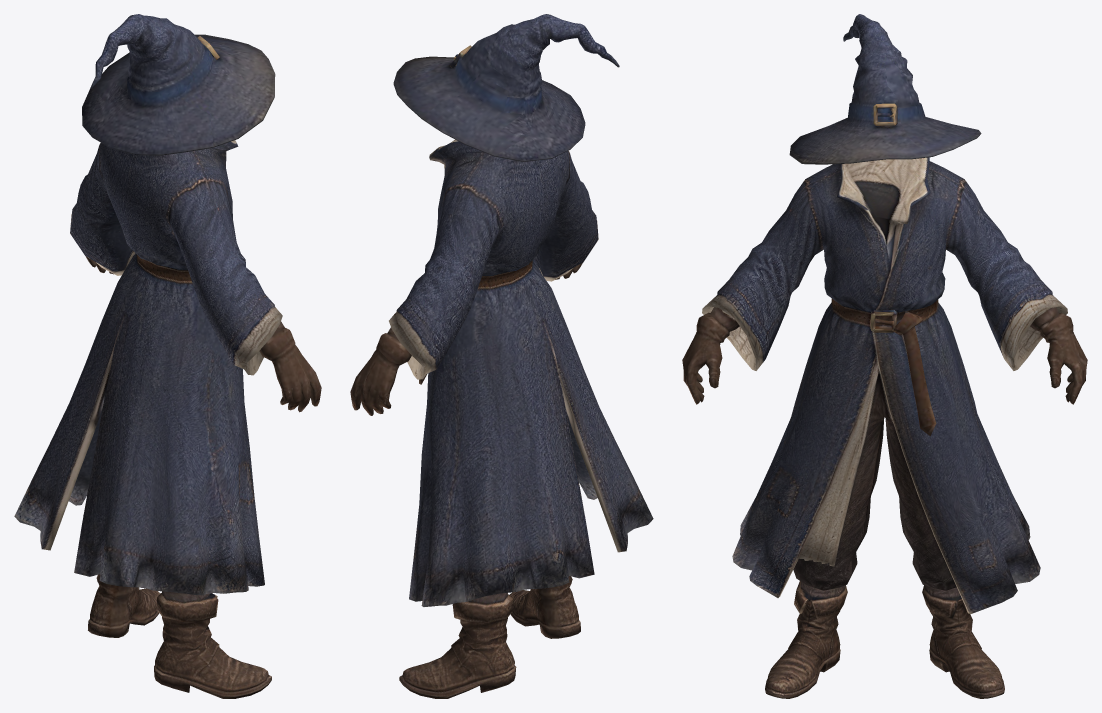
File: source-static.glb
The picture shows the model from 3 angles, left to right: view 1: azimuth 30°, elevation 25°; view 2: azimuth 150°, elevation 25°; view 3: azimuth 270°, elevation 25°; orthographic projection. The views are drawn at different scales.
Parts seen in each view (by area): view 1: tripo_part_0_Clone, tripo_part_2_Clone, tripo_part_1_Clone, tripo_part_3_Clone, tripo_part_5_Clone; view 2: tripo_part_0_Clone, tripo_part_2_Clone, tripo_part_3_Clone, tripo_part_1_Clone, tripo_part_4_Clone; view 3: tripo_part_0_Clone, tripo_part_2_Clone, tripo_part_1_Clone, tripo_part_3_Clone, tripo_part_5_Clone, tripo_part_4_Clone, tripo_part_6_Clone.
Boxes of the visible parts, x1,y1,x2,y2 form: tripo_part_0_Clone: (14,140,282,595); tripo_part_2_Clone: (82,14,275,155); tripo_part_1_Clone: (154,591,271,698); tripo_part_3_Clone: (88,574,160,637); tripo_part_5_Clone: (259,321,321,412); tripo_part_0_Clone: (389,139,653,606); tripo_part_2_Clone: (393,14,619,161); tripo_part_3_Clone: (399,592,516,698); tripo_part_1_Clone: (509,576,580,638); tripo_part_4_Clone: (350,327,411,415); tripo_part_0_Clone: (702,157,1067,614); tripo_part_2_Clone: (789,14,981,164); tripo_part_1_Clone: (765,581,847,698); tripo_part_3_Clone: (922,585,1004,698); tripo_part_5_Clone: (682,307,739,404); tripo_part_4_Clone: (1030,307,1087,404); tripo_part_6_Clone: (903,327,936,436).
Size of the model in its own units: 0.3276 by 0.9995 by 0.5728.
1 material, 1 textured.
